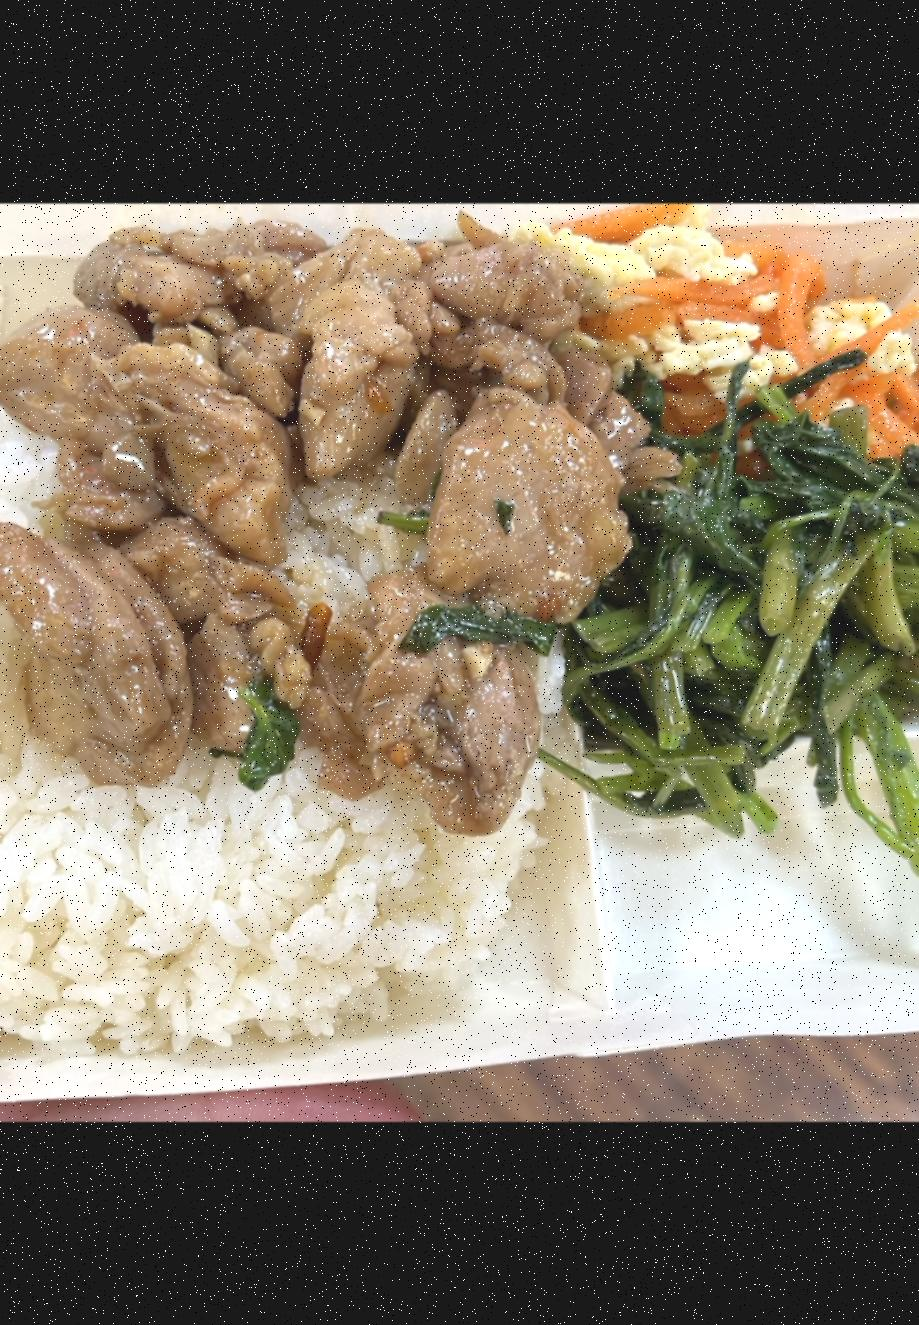big grilled chicken leg: (0, 203, 919, 1118)
big herbal chicken leg: (0, 375, 533, 1065)
braised fish fillet: (567, 396, 919, 991), (541, 216, 919, 442)
braised pork: (0, 217, 634, 824)
